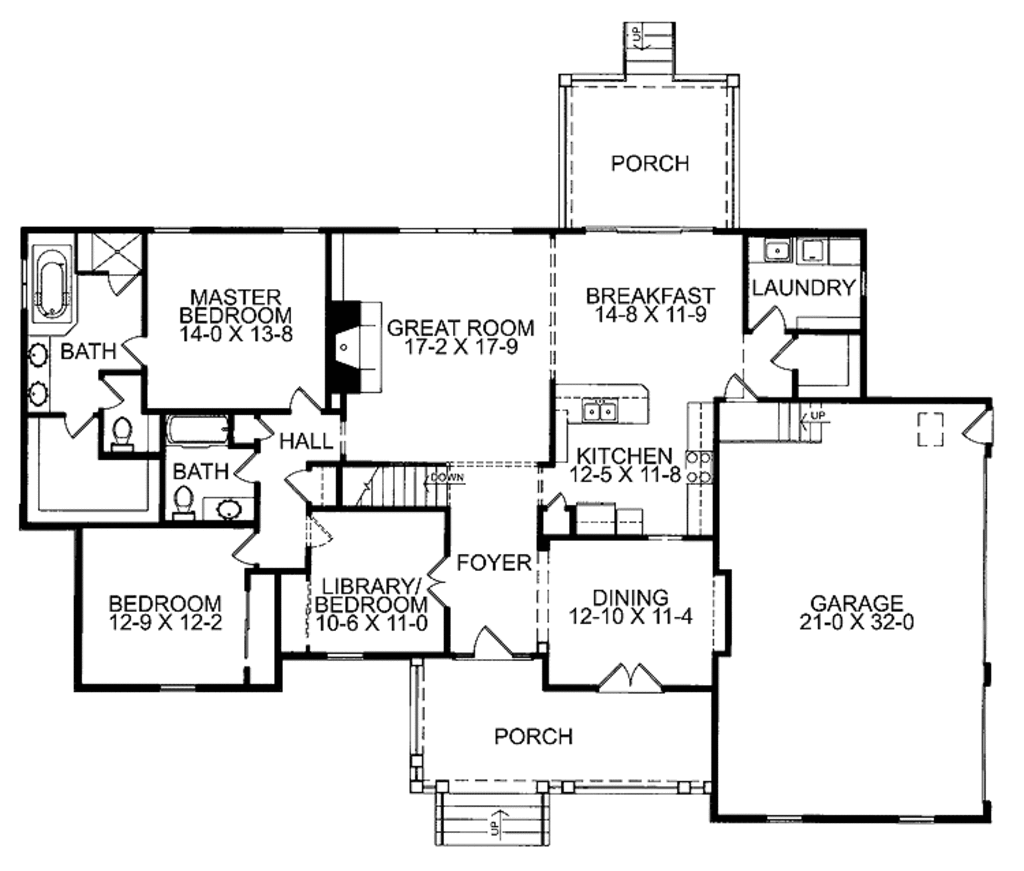door: (590, 659, 663, 695), (455, 623, 511, 664), (765, 338, 804, 378), (284, 379, 319, 418), (737, 308, 792, 332), (58, 409, 101, 439), (219, 527, 254, 562), (966, 411, 994, 452), (720, 369, 754, 402)
kitchen_bar: (538, 372, 651, 433)
large_sink: (166, 484, 196, 524), (101, 415, 132, 452)
small_sink: (28, 335, 51, 422), (203, 487, 251, 525)
stairs: (429, 779, 552, 853), (716, 402, 839, 449), (344, 464, 461, 510), (614, 14, 678, 92)
tub: (26, 240, 76, 332), (155, 415, 232, 454)
windows: (394, 226, 526, 239)
